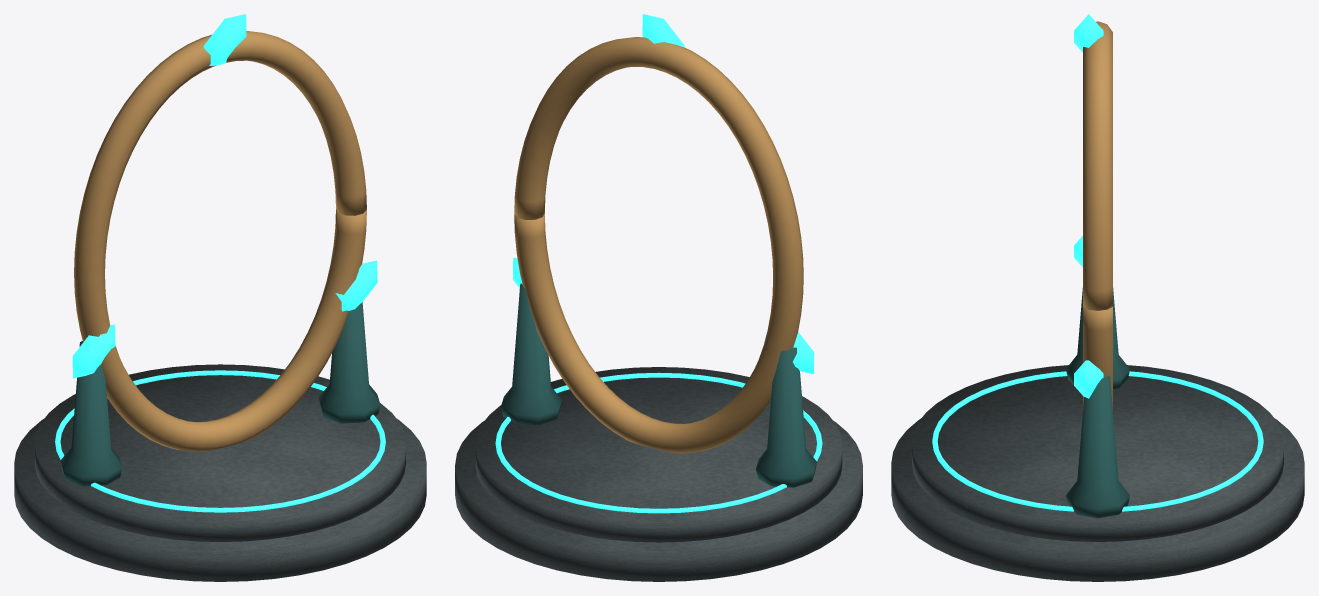
The model's file is exit-portal.glb.
3 renders of one model, left to right at view 1: azimuth 30°, elevation 25°; view 2: azimuth 150°, elevation 25°; view 3: azimuth 270°, elevation 25°, orthographic.
Parts seen in each view (by area): view 1: exit_portal; view 2: exit_portal; view 3: exit_portal.
Boxes of the visible parts, x1,y1,x2,y2 form: exit_portal: (14, 14, 426, 581); exit_portal: (455, 14, 862, 581); exit_portal: (891, 14, 1304, 581).
Bounding box in the file's own units: 1.8 × 2.31 × 1.8.
4 materials, 1 textured.
